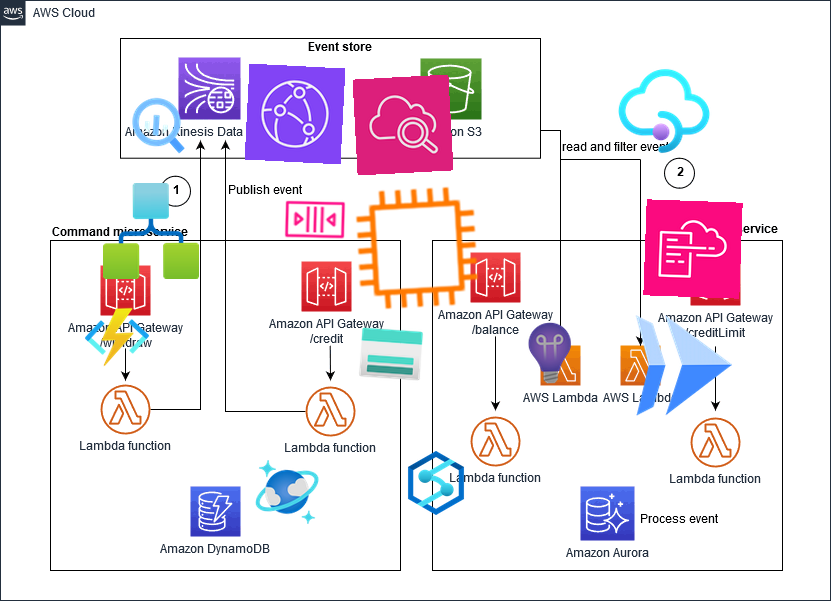aws_amazon_cloudfront: (244, 63, 346, 165)
aws_amazon_cloudwatch: (352, 74, 454, 176)
aws_cloudformation: (643, 199, 743, 299)
aws_ec2_instance: (349, 180, 485, 316)
aws_simple_queue_service_queue: (282, 186, 348, 252)
azure_api_management_services: (615, 62, 713, 160)
azure_application_insights: (517, 320, 583, 386)
azure_cosmos_db: (252, 457, 322, 527)
azure_function_apps: (83, 303, 151, 371)
azure_logic_apps: (102, 182, 200, 280)
azure_storage_accounts: (356, 319, 426, 389)
azure_synapse_analytics: (403, 450, 469, 516)
gcp_bigquery: (125, 91, 193, 159)
gcp_cloud_run: (617, 300, 747, 430)
